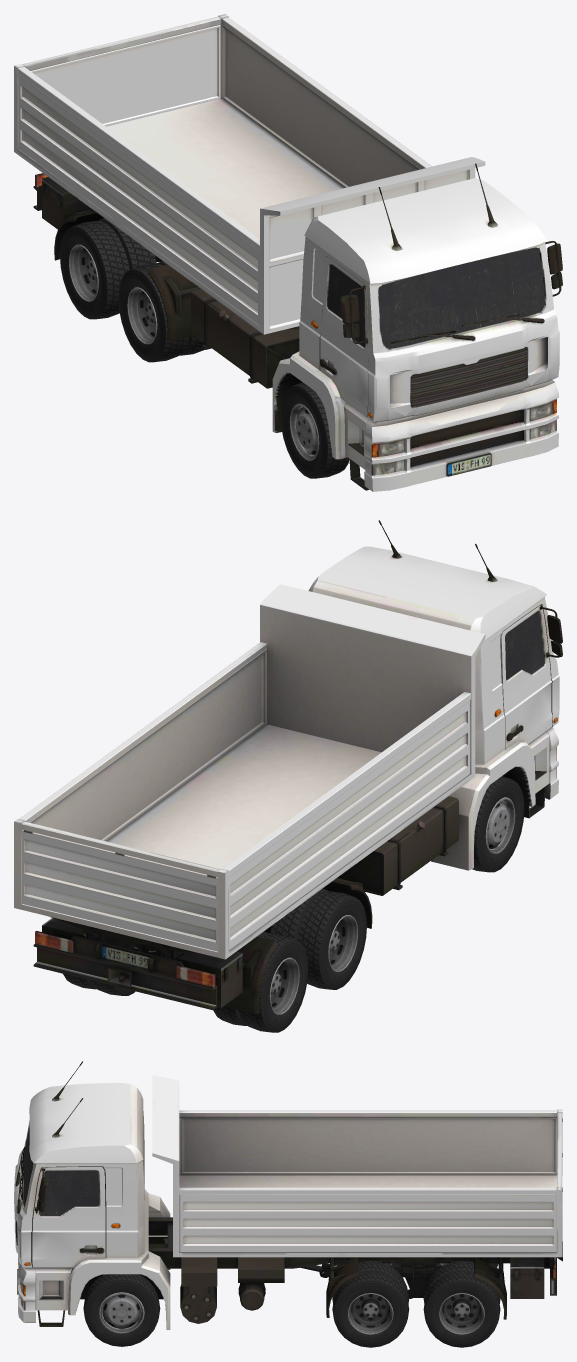
Rendered from dump-truck.glb.
3 views of the same model, one above another, from view 1: azimuth 30°, elevation 25°; view 2: azimuth 150°, elevation 25°; view 3: azimuth 270°, elevation 25° (orthographic). The views are drawn at different scales.
Parts seen in each view (by area): view 1: body_main_1, platform, platform_door, wheel_back_axis2_right, wheel_back_axis1_right, wheel_front_right; view 2: platform, body_main_1, platform_door, wheel_back_axis1_right, wheel_back_axis2_right, wheel_front_right; view 3: platform, body_main_1, wheel_back_axis1_left, wheel_back_axis2_left, wheel_front_left.
Part boxes in pixels (box(x1,y1,x2,y2)): body_main_1: box(33, 163, 562, 491); platform: box(14, 14, 485, 334); platform_door: box(30, 25, 220, 126); wheel_back_axis2_right: box(60, 218, 156, 319); wheel_back_axis1_right: box(118, 261, 204, 362); wheel_front_right: box(280, 382, 349, 478); platform: box(14, 584, 485, 959); body_main_1: box(33, 520, 562, 1014); platform_door: box(22, 830, 217, 951); wheel_back_axis1_right: box(270, 888, 366, 989); wheel_back_axis2_right: box(213, 931, 308, 1032); wheel_front_right: box(472, 776, 524, 872); platform: box(152, 1075, 562, 1257); body_main_1: box(14, 1061, 562, 1329); wheel_back_axis1_left: box(332, 1261, 409, 1347); wheel_back_axis2_left: box(423, 1261, 500, 1347); wheel_front_left: box(83, 1274, 160, 1346).
Size of the model in its own units: 2.1 by 2.7 by 5.82.
9 materials, 9 textured.
